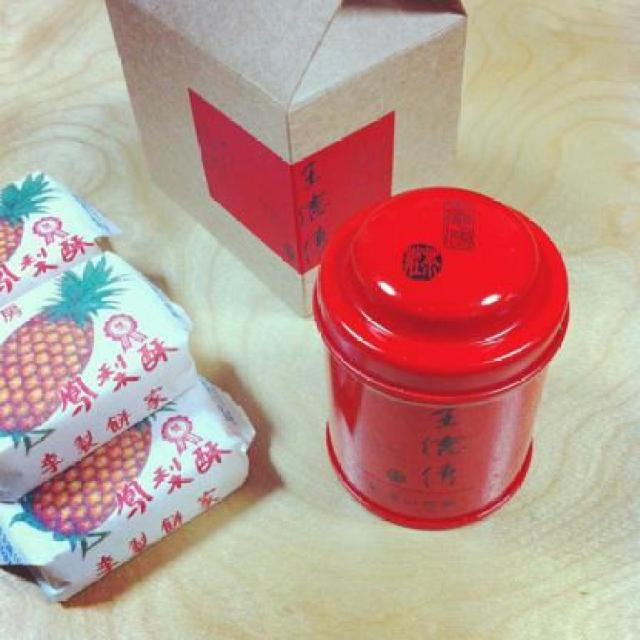Pineapple: (0, 254, 131, 436), (11, 400, 180, 537), (0, 168, 68, 260)
